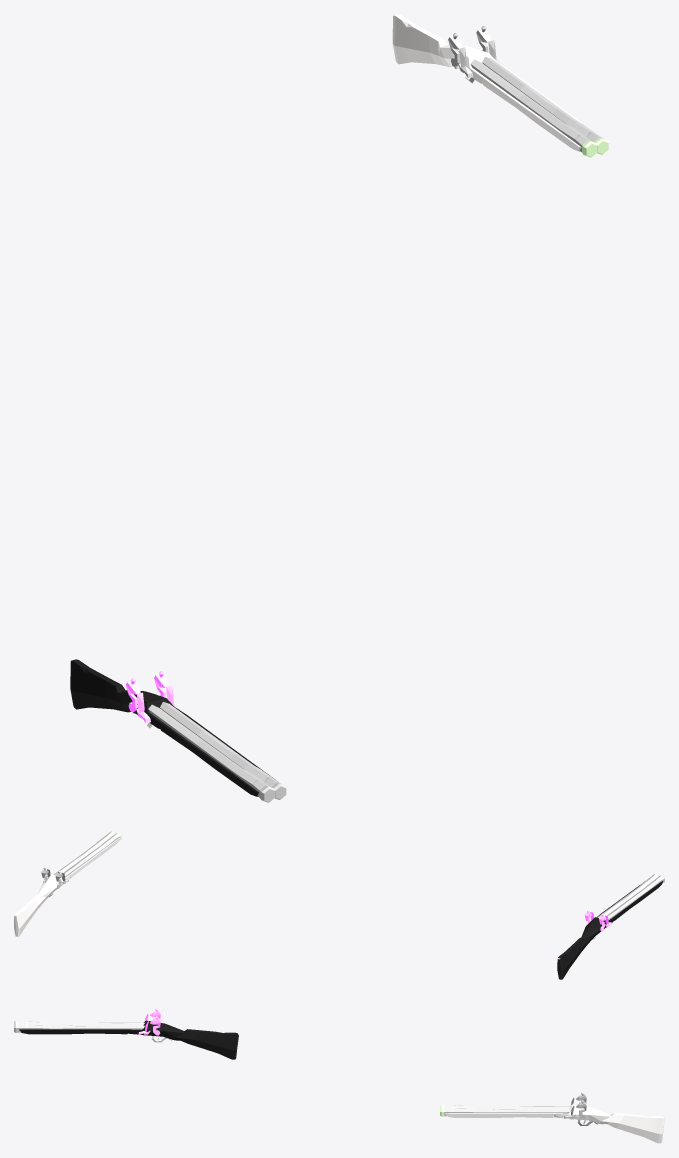
Rendered from item_1.glb.
The picture shows the model from 3 angles, top to bottom: view 1: azimuth 30°, elevation 25°; view 2: azimuth 150°, elevation 25°; view 3: azimuth 270°, elevation 25°; orthographic projection. The views are drawn at different scales.
Parts seen in each view (by area): view 1: UV1, UV1_5, UV3, UV3_5; view 2: UV1, UV1_5, UV3, UV3_5; view 3: UV1, UV1_5, UV3, UV3_5, UV4_5, UV4.
Boxes of the visible parts, box(x1,y1,x2,y2) form: UV1: box(70, 659, 275, 796); UV1_5: box(392, 14, 599, 151); UV3: box(148, 702, 281, 797); UV3_5: box(470, 56, 603, 152); UV1: box(557, 881, 663, 979); UV1_5: box(14, 837, 119, 936); UV3: box(597, 875, 663, 920); UV3_5: box(53, 832, 119, 877); UV1: box(19, 1020, 238, 1059); UV1_5: box(445, 1104, 664, 1143); UV3: box(18, 1021, 144, 1032); UV3_5: box(444, 1105, 570, 1116); UV4_5: box(564, 1092, 664, 1119); UV4: box(138, 1008, 238, 1035).
Size of the model in its own units: 2.96 by 1.06 by 4.05.
Materials: 32 (2 with a texture image).
